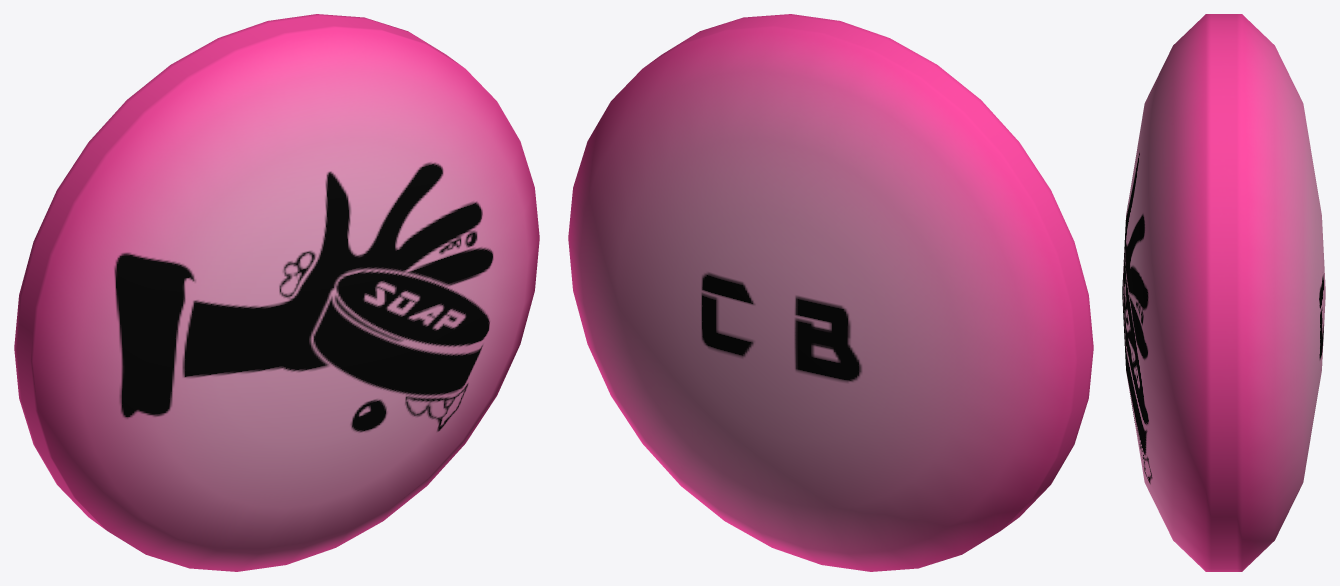
File: Btn_SoapyHands.FBX
The picture shows the model from 3 angles, left to right: view 1: azimuth 30°, elevation 25°; view 2: azimuth 150°, elevation 25°; view 3: azimuth 270°, elevation 25°; orthographic projection. The views are drawn at different scales.
Visible parts, largest first — view 1: Pickup_Button2; view 2: Pickup_Button2; view 3: Pickup_Button2.
Boxes of the visible parts, bbox=[...] form: Pickup_Button2: bbox=[14, 14, 539, 571]; Pickup_Button2: bbox=[568, 14, 1093, 571]; Pickup_Button2: bbox=[1122, 14, 1325, 571].
Bounding box in the file's own units: 65.32 × 65.32 × 23.82.
